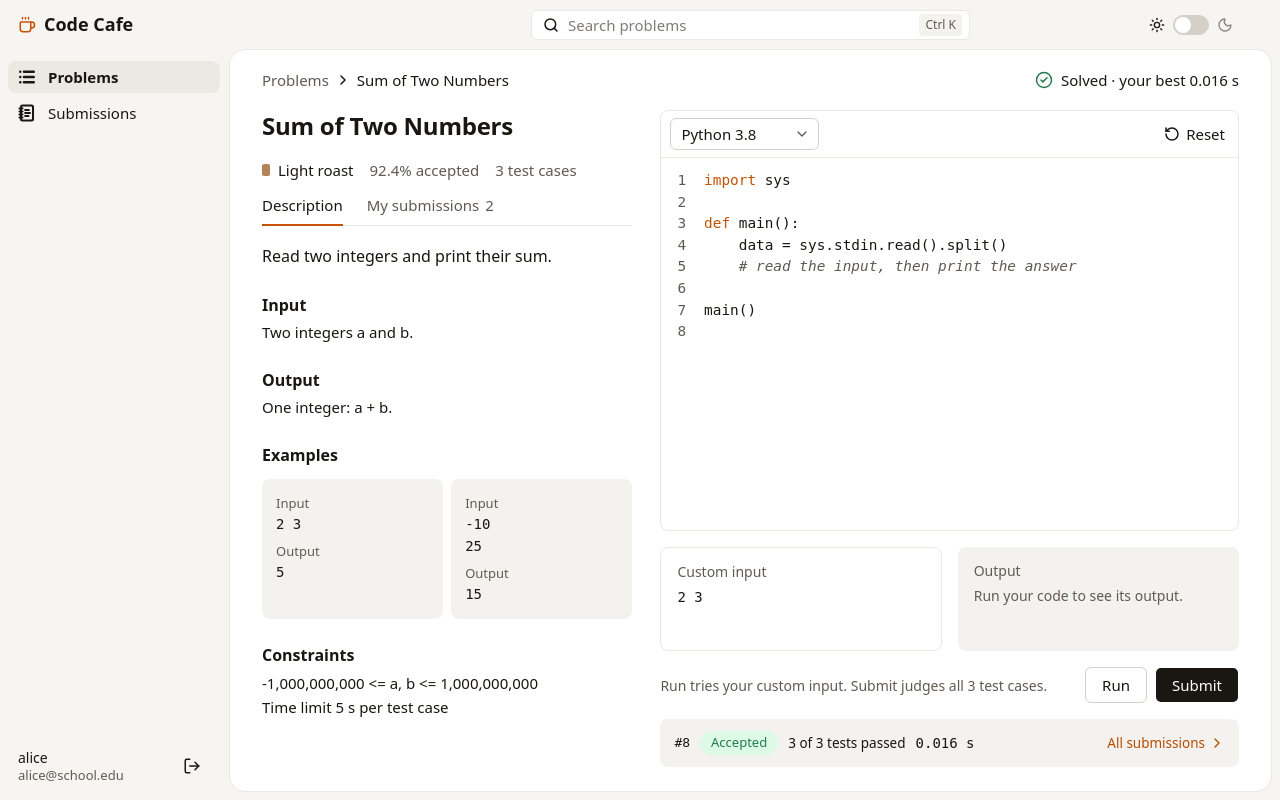
Test: workspace › lists this problem's submissions in the My submissions tab
Click the tab "My submissions 2" at (430, 205), box [367,185,494,225]
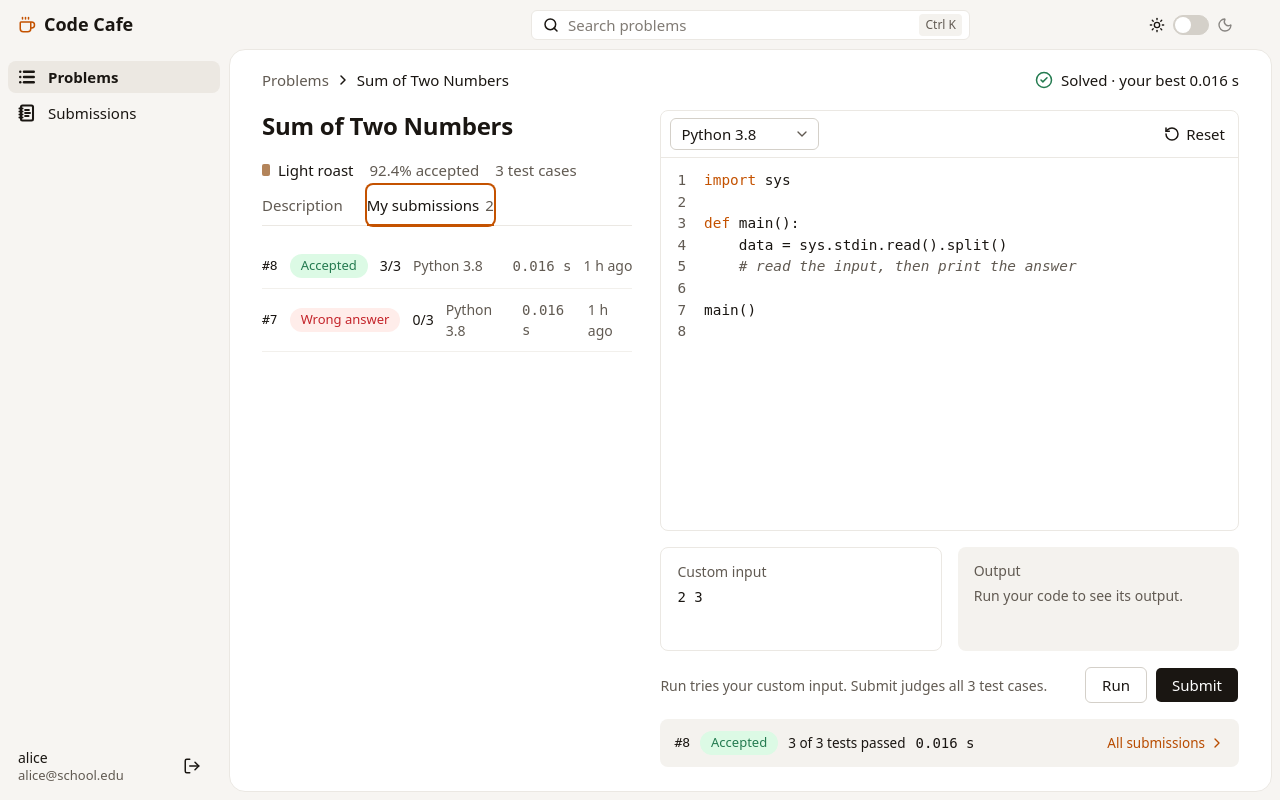
Now the text "#8" is shown, box [262,256,278,276]
Now the text "Wrong answer" is shown, box [290,308,400,332]
